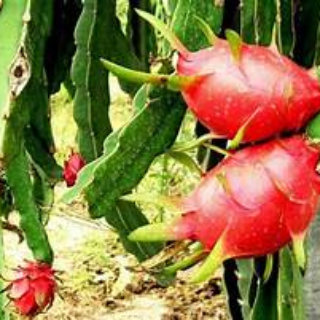thanh_long: (153, 138, 317, 283), (150, 19, 320, 135), (8, 261, 65, 316)
